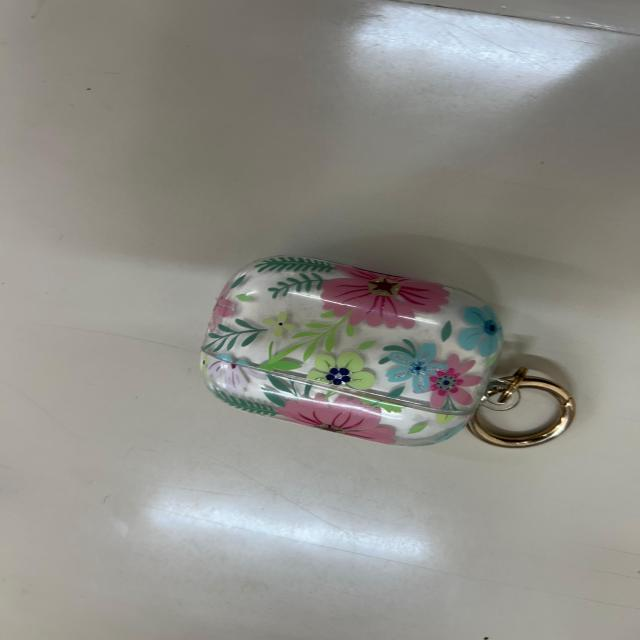inorganic: (206, 256, 578, 448)
